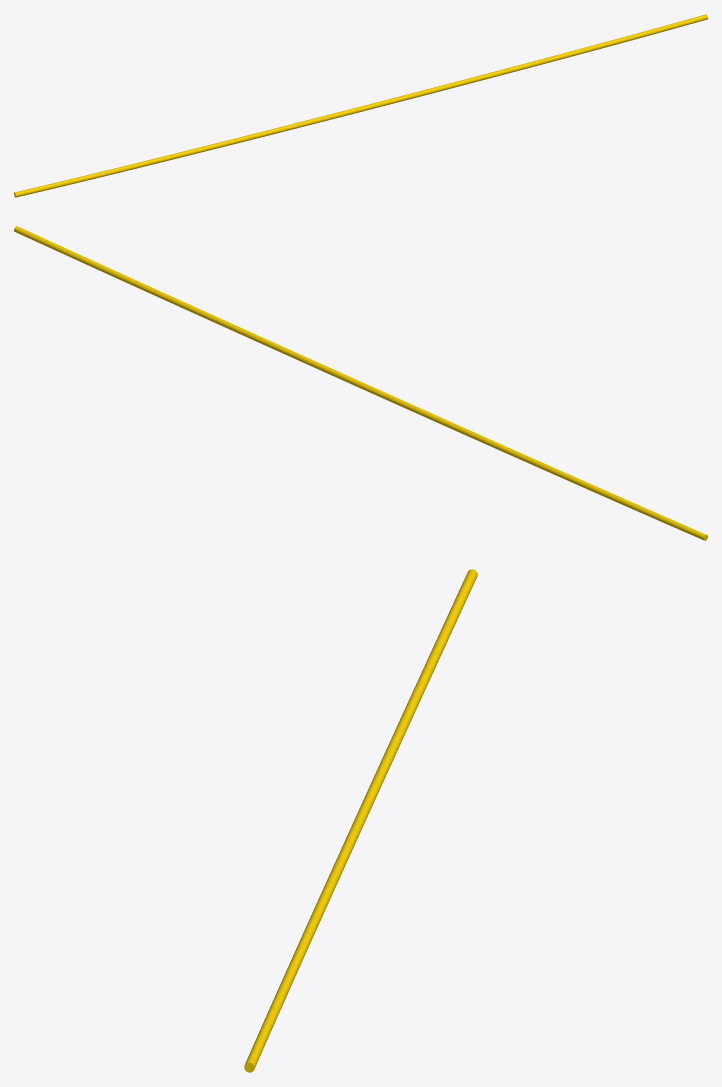
Rendered from Event_421364160_track_24.fbx.
3 renders of one model, top to bottom at view 1: azimuth 30°, elevation 25°; view 2: azimuth 150°, elevation 25°; view 3: azimuth 270°, elevation 25°, orthographic. The views are drawn at different scales.
Visible parts, largest first — view 1: Model; view 2: Model; view 3: Model.
Part boxes in pixels (x1,y1,x2,y2): Model: (14,14,707,197); Model: (14,226,707,540); Model: (244,569,477,1072).
Size of the model in its own units: 5.49 by 0.5656 by 0.8727.
